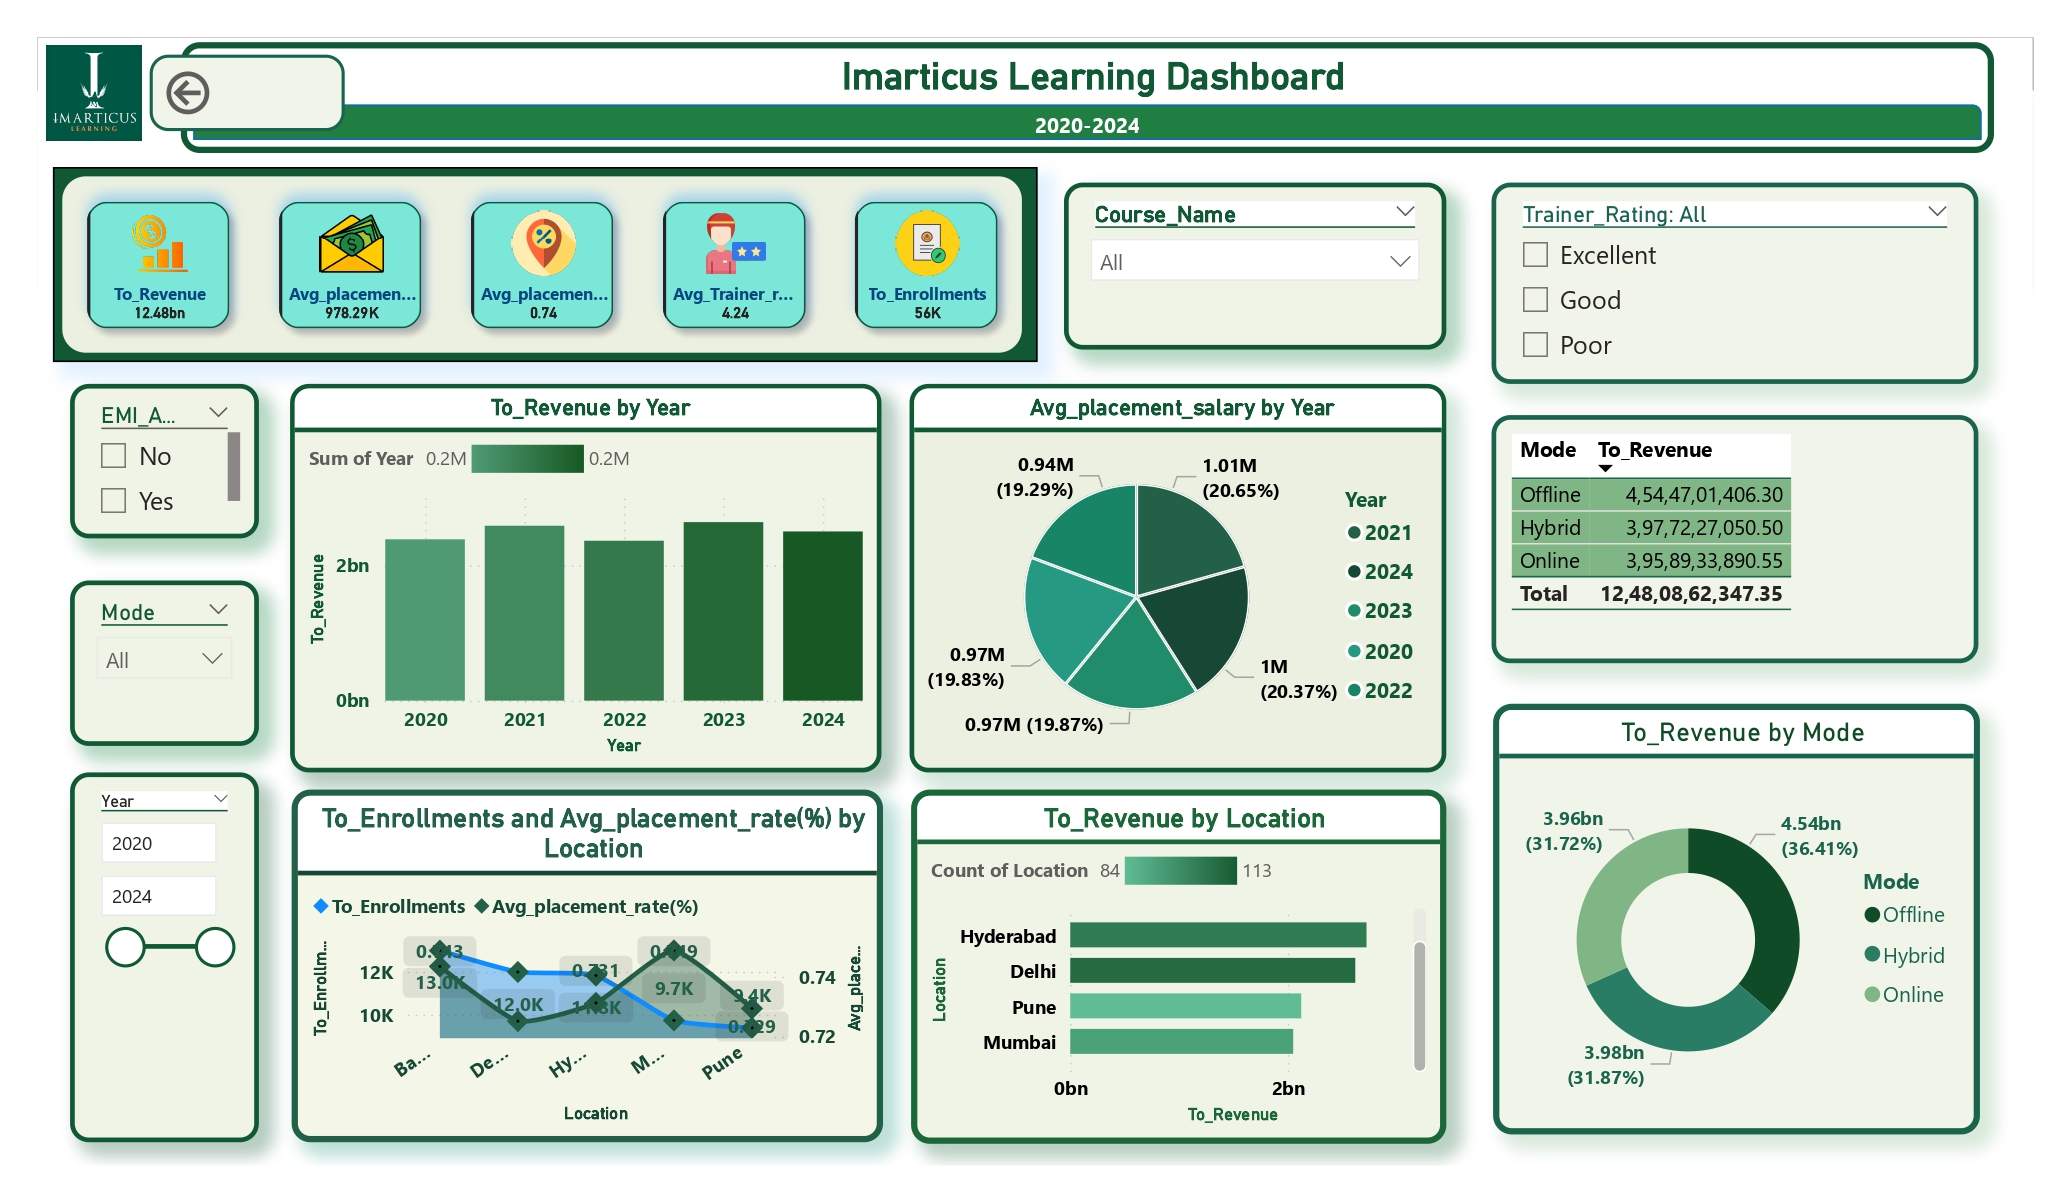

Layout of this report page (visuals, bound fields, positions):
{"tool":"powerbi","page":{"name":"Page 1","canvas":[1277,723],"ordinal":0},"visuals":[{"type":"cardVisual","title":"Key Highlights","fields":{"Data":["Measure_Table.total_revenue","Measure_Table.Avg_placement_salary","Measure_Table.Avg_placement_rate(%)","Measure_Table.Avg_Trainer_rating","Measure_Table.Total Enrollments"]},"box":[9.5,83.1,631,125.1],"z":0},{"type":"shape","title":"Imarticus Learning Dashboard","box":[91.1,3.3,1162.2,71.1],"z":1000},{"type":"image","box":[0,0,71,71],"z":2000},{"type":"columnChart","fields":{"Y":["Measure_Table.To_Revenue"],"Category":["imarticus_course_sales_2020_2024 (1).Year"]},"box":[161,222,379,249],"z":3000},{"type":"pieChart","fields":{"Category":["imarticus_course_sales_2020_2024 (1).Year"],"Y":["Measure_Table.Avg_placement_salary"]},"box":[558.4,221.9,343.9,249.2],"z":4000},{"type":"lineChart","fields":{"Y":["Measure_Table.To_Enrollments"],"Category":["imarticus_course_sales_2020_2024 (1).Location"],"Y2":["Measure_Table.Avg_placement_rate(%)"]},"box":[162,482,379,226],"z":5000},{"type":"clusteredBarChart","fields":{"Category":["imarticus_course_sales_2020_2024 (1).Location"],"Y":["Measure_Table.To_Revenue"]},"box":[558.9,482.2,343.3,226.7],"z":6000},{"type":"slicer","fields":{"Values":["imarticus_course_sales_2020_2024 (1).Course_Name"]},"box":[656.7,93.3,245.6,106.7],"z":7000},{"type":"slicer","fields":{"Values":["imarticus_course_sales_2020_2024 (1).Year"]},"box":[20,471.1,121.1,236.7],"z":8000},{"type":"slicer","fields":{"Values":["imarticus_course_sales_2020_2024 (1).Mode"]},"box":[20,347.8,121.1,106.7],"z":9000},{"type":"slicer","fields":{"Values":["imarticus_course_sales_2020_2024 (1).EMI_Available"]},"box":[20,222.2,121.1,98.9],"z":10000},{"type":"slicer","fields":{"Values":["imarticus_course_sales_2020_2024 (1).Trainer_Rating 2"]},"box":[931,93,312,129],"z":11000},{"type":"actionButton","box":[71.1,11.1,124.4,48.9],"z":12000},{"type":"tableEx","fields":{"Values":["imarticus_course_sales_2020_2024 (1).Mode","Measure_Table.To_Revenue"]},"box":[931.1,242.2,312.2,158.9],"z":13000},{"type":"donutChart","fields":{"Category":["imarticus_course_sales_2020_2024 (1).Mode"],"Y":["Measure_Table.To_Revenue"]},"box":[932.2,426.7,312.2,276.7],"z":14000}]}

Visuals, with their boxes in screenshot pixels (x1, y1, x2, y2):
"Key Highlights" cardVisual: <region>52, 167, 1039, 363</region>
"Imarticus Learning Dashboard" shape: <region>180, 43, 1996, 154</region>
image: <region>38, 37, 148, 148</region>
columnChart - Measure_Table.To_Revenue x imarticus_course_sales_2020_2024 (1).Year: <region>289, 384, 882, 773</region>
pieChart - imarticus_course_sales_2020_2024 (1).Year x Measure_Table.Avg_placement_salary: <region>910, 384, 1448, 773</region>
lineChart - Measure_Table.To_Enrollments x imarticus_course_sales_2020_2024 (1).Location: <region>291, 790, 883, 1143</region>
clusteredBarChart - imarticus_course_sales_2020_2024 (1).Location x Measure_Table.To_Revenue: <region>911, 790, 1448, 1145</region>
slicer - imarticus_course_sales_2020_2024 (1).Course_Name: <region>1064, 183, 1448, 350</region>
slicer - imarticus_course_sales_2020_2024 (1).Year: <region>69, 773, 258, 1143</region>
slicer - imarticus_course_sales_2020_2024 (1).Mode: <region>69, 581, 258, 747</region>
slicer - imarticus_course_sales_2020_2024 (1).EMI_Available: <region>69, 384, 258, 539</region>
slicer - imarticus_course_sales_2020_2024 (1).Trainer_Rating 2: <region>1493, 183, 1980, 384</region>
actionButton: <region>149, 55, 343, 131</region>
tableEx - imarticus_course_sales_2020_2024 (1).Mode x Measure_Table.To_Revenue: <region>1493, 416, 1981, 664</region>
donutChart - imarticus_course_sales_2020_2024 (1).Mode x Measure_Table.To_Revenue: <region>1495, 704, 1983, 1136</region>
